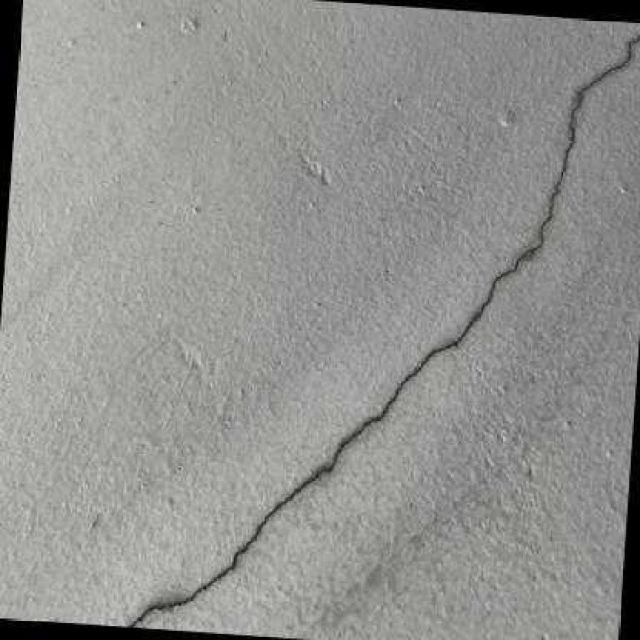D00: (126, 34, 640, 628)
